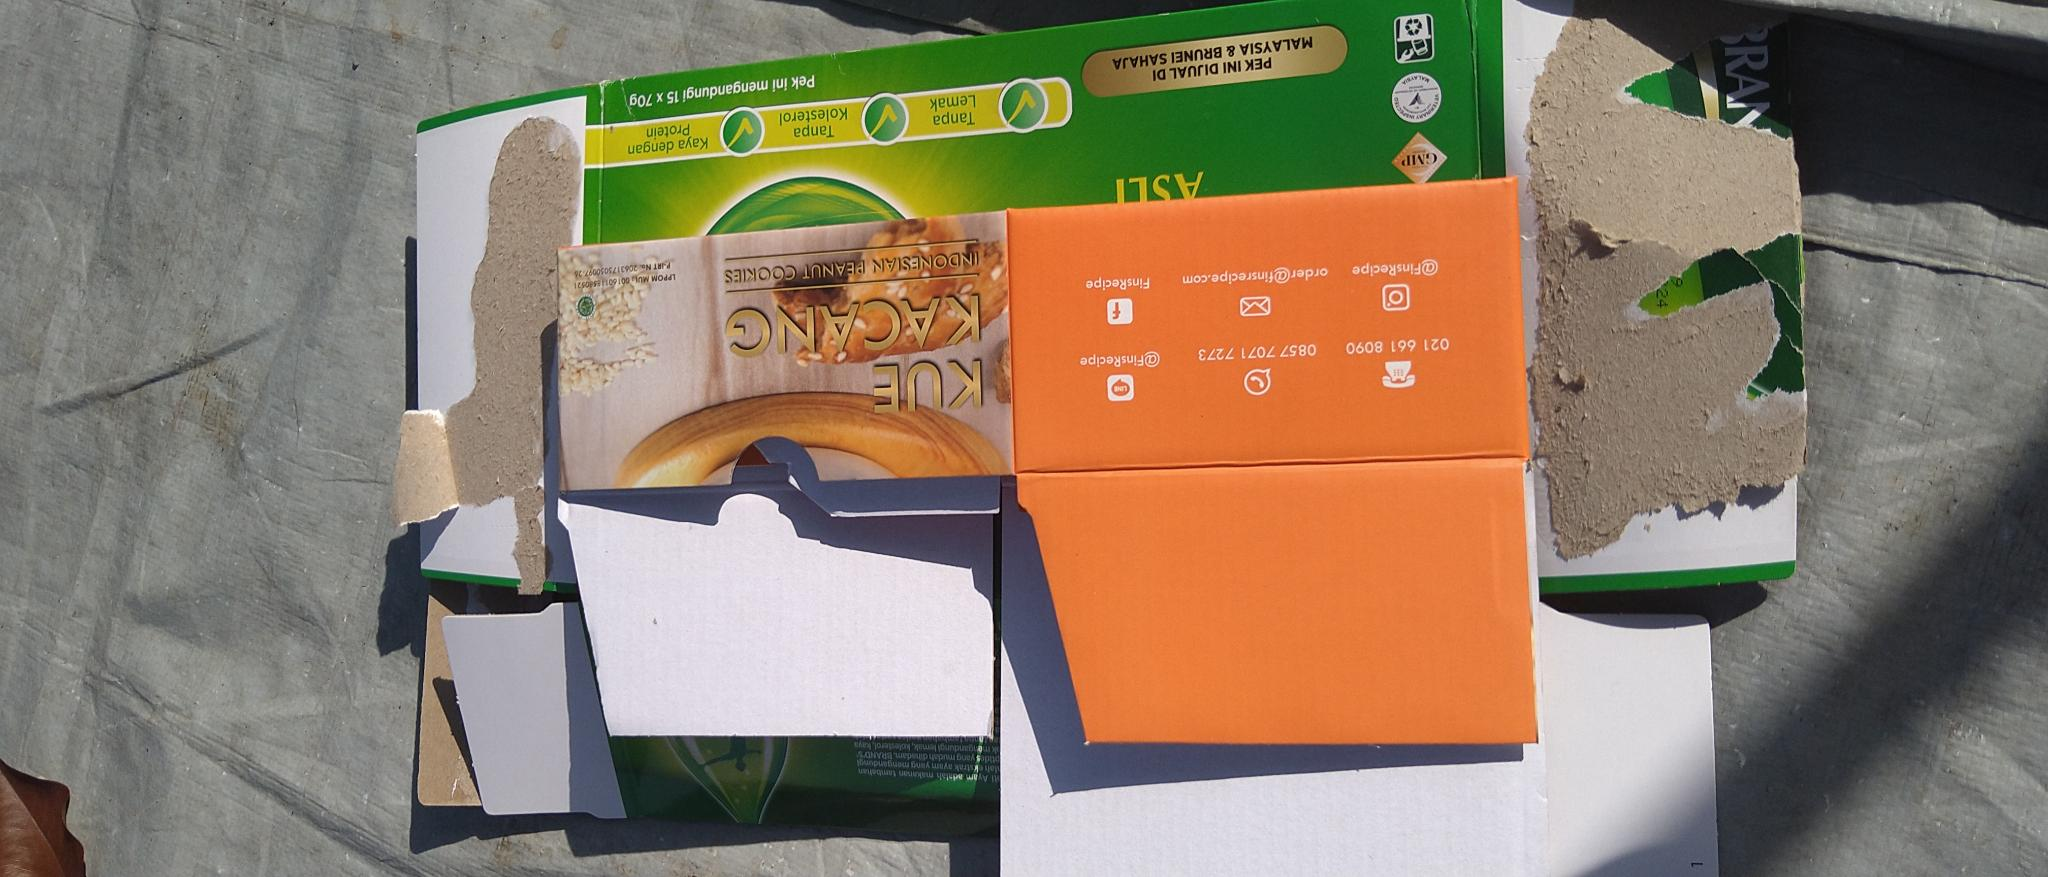paper: (394, 0, 1802, 812)
